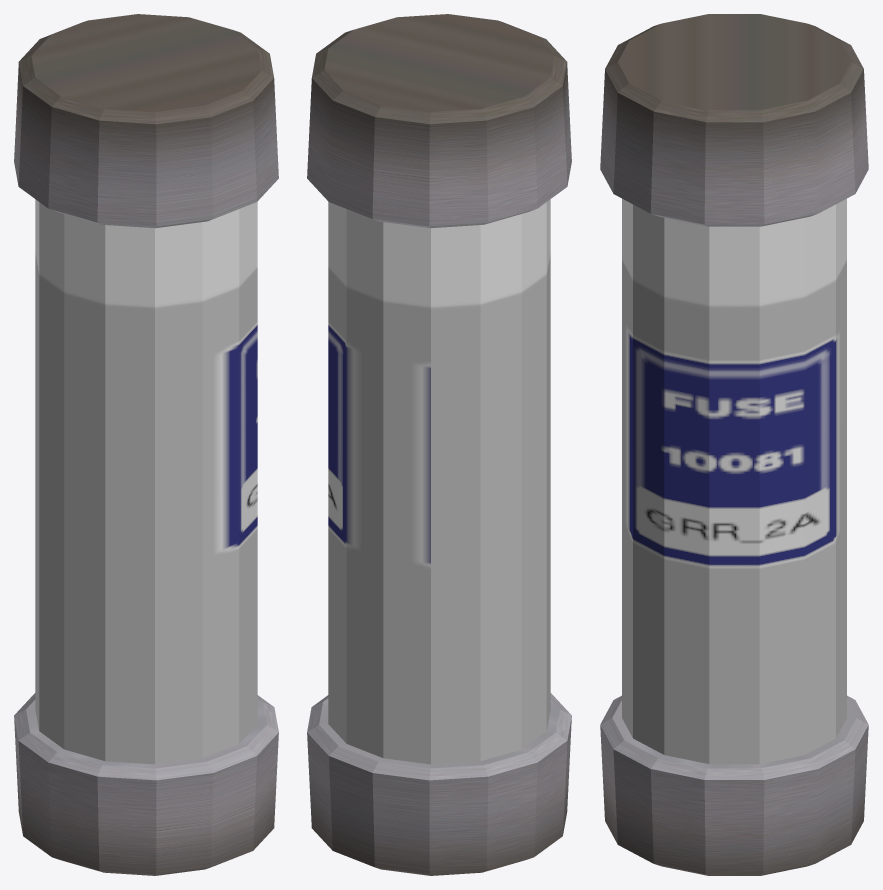
The model's file is Fuse.fbx.
3 views of the same model, side by side, from view 1: azimuth 30°, elevation 25°; view 2: azimuth 150°, elevation 25°; view 3: azimuth 270°, elevation 25° (orthographic).
Parts seen in each view (by area): view 1: Fuse; view 2: Fuse; view 3: Fuse.
Part boxes in pixels (x1,y1,x2,y2): Fuse: [14, 14, 278, 875]; Fuse: [307, 14, 571, 875]; Fuse: [600, 14, 868, 875].
Size of the model in its own units: 0.2441 by 0.7878 by 0.2504.
Materials: 1 (1 with a texture image).
